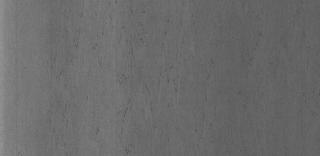silk spot: (87, 12, 237, 138)
